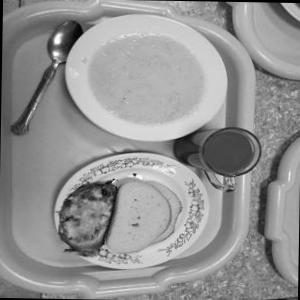bread: (109, 169, 178, 260)
cheese_sandwich: (59, 170, 117, 270)
coffee: (178, 116, 264, 192)
porridge: (80, 24, 220, 132)
